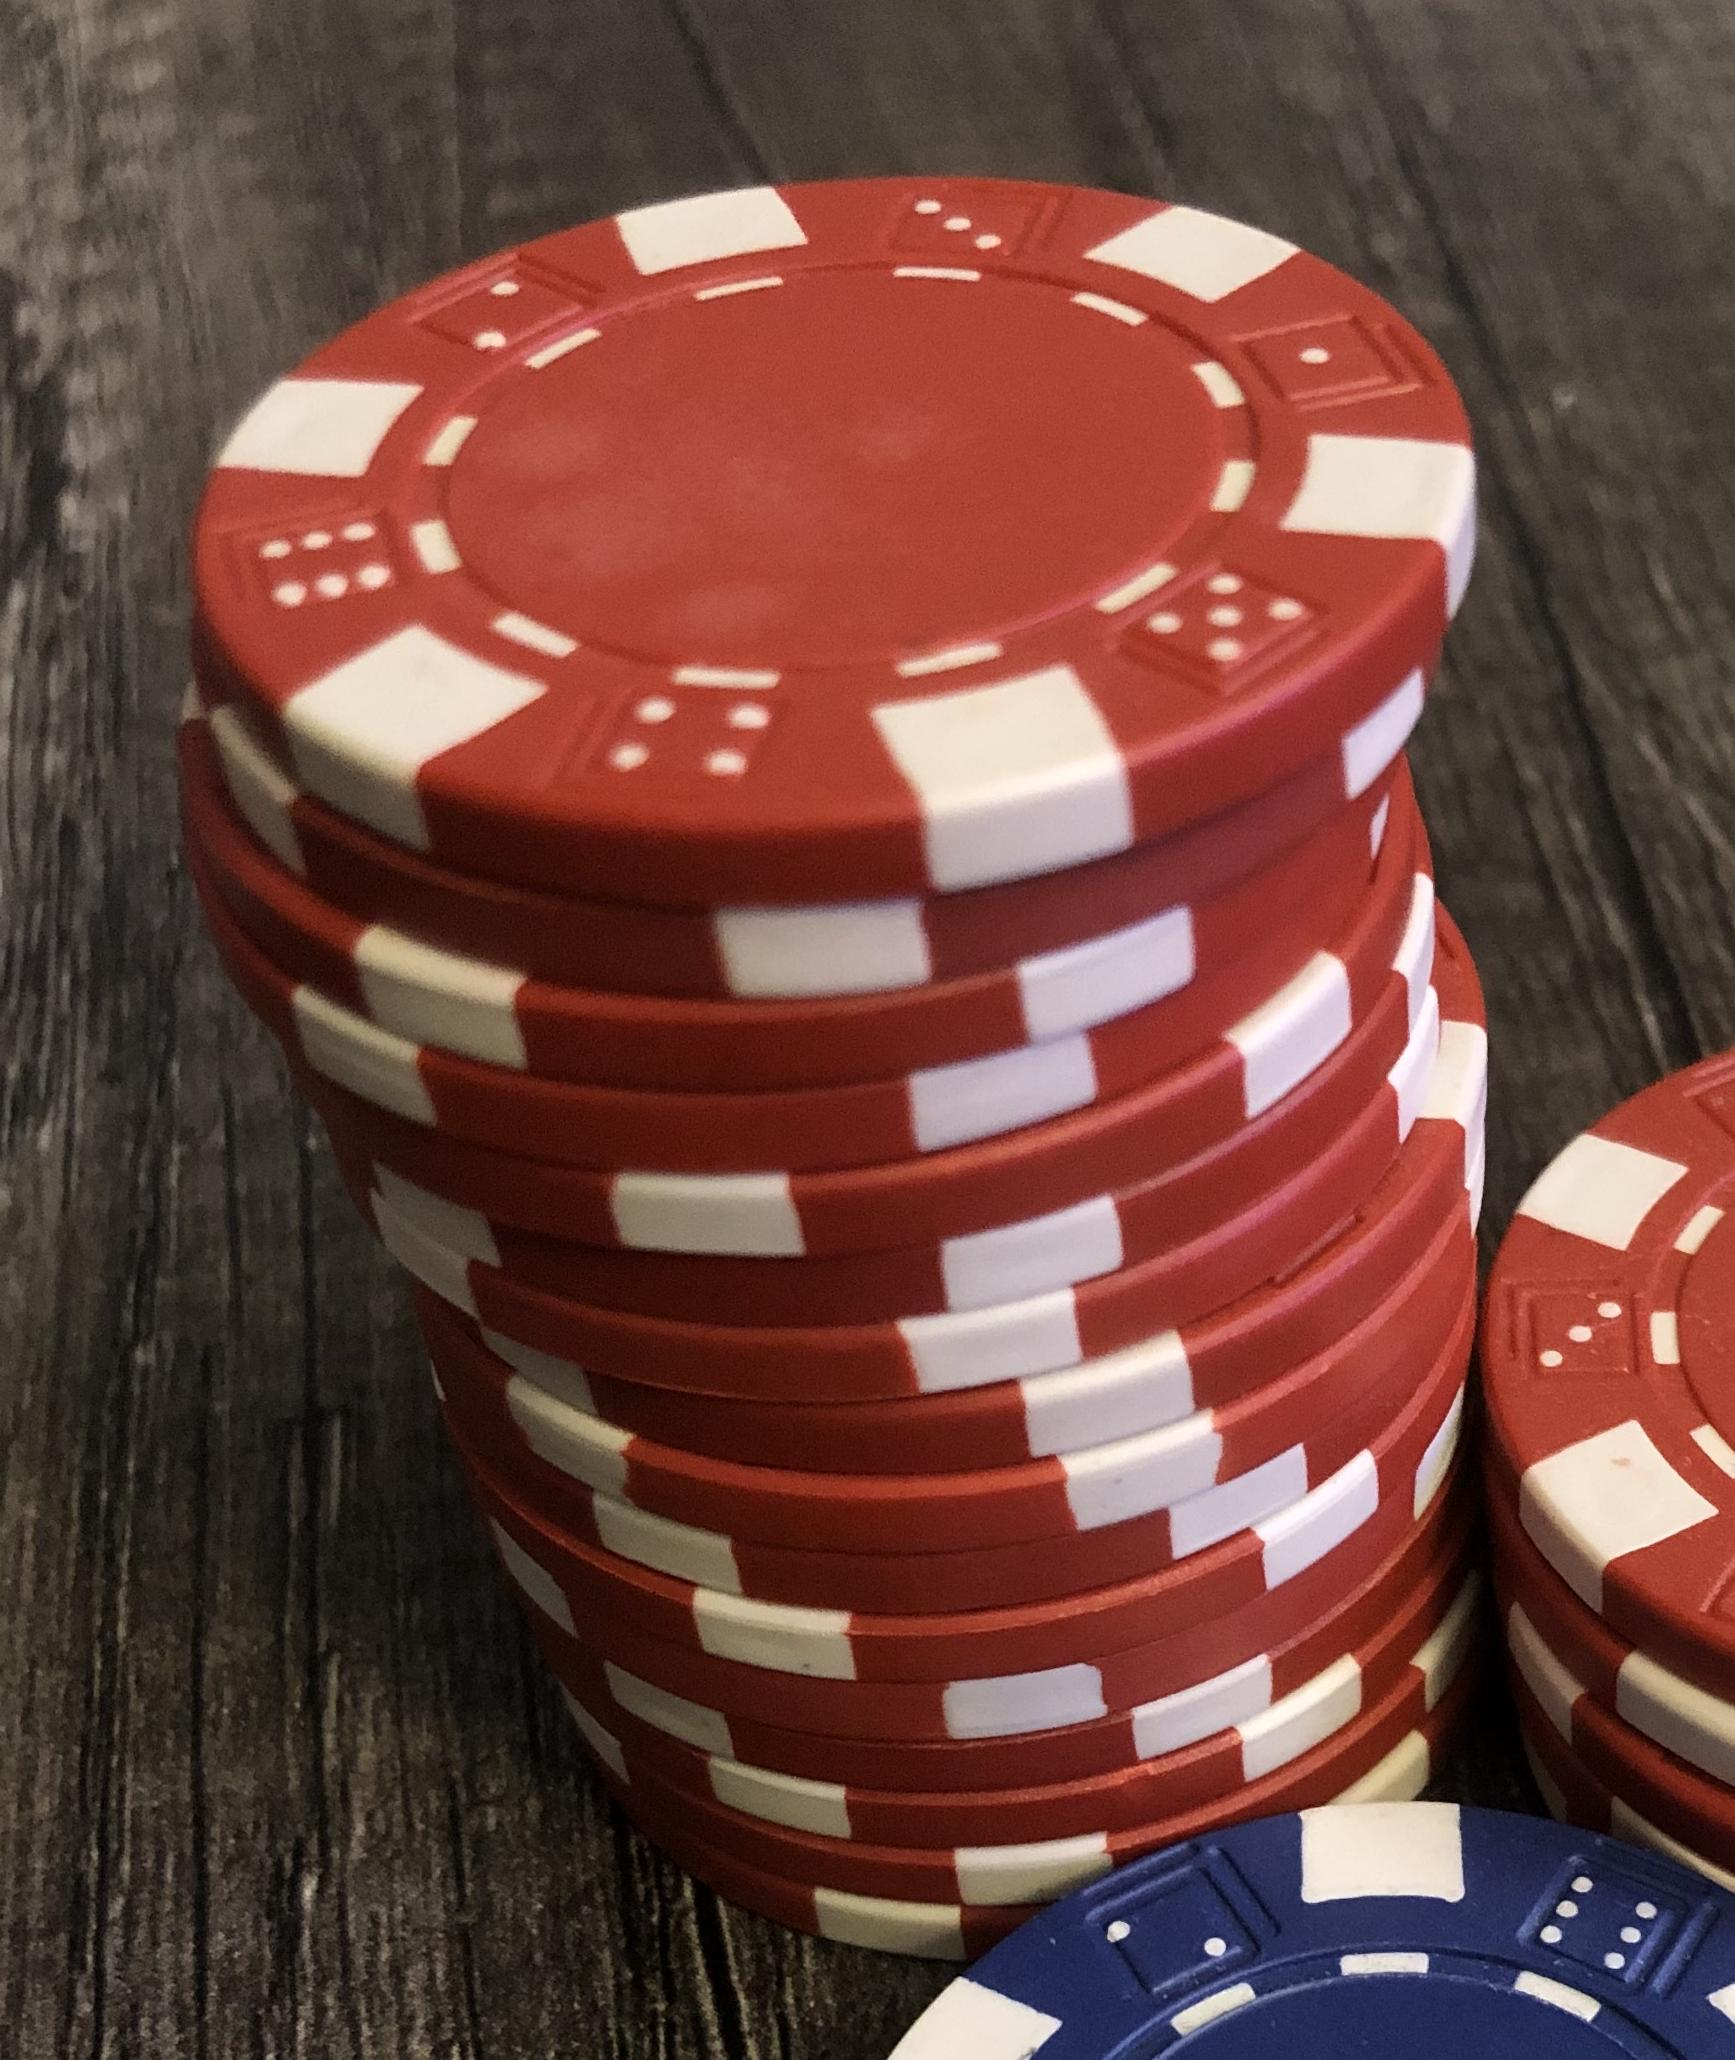Chip: (1, 1, 1735, 2060)
